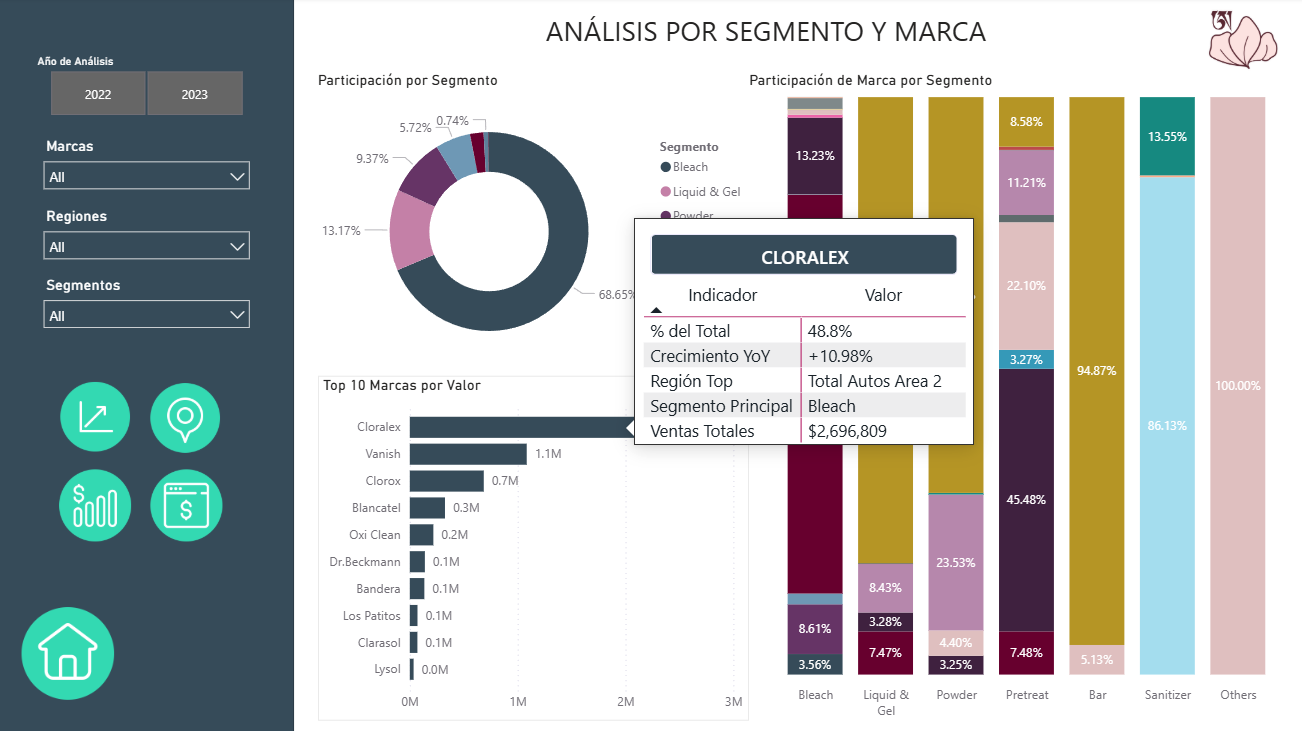

This screenshot's page, from the dashboard's own definition file:
{"tool":"powerbi","page":{"name":"Segmentos y Marcas","canvas":[1280,720],"ordinal":3},"visuals":[{"type":"donutChart","title":"Participación por Segmento","fields":{"Y":["DAX.Ventas Totales"],"Category":["DIM_SEGMENT.SEGMENT"]},"box":[312.9,72.7,422.6,297.8],"z":0},{"type":"hundredPercentStackedColumnChart","title":"Participación de Marca por Segmento","fields":{"Category":["DIM_SEGMENT.SEGMENT"],"Y":["DAX.Ventas Totales"],"Series":["DIM_PRODUCT.BRAND"]},"box":[735.5,72.7,533.8,636.7],"z":1000},{"type":"textbox","box":[386.4,9.8,730,53.8],"z":2000},{"type":"shape","box":[0,0,289.8,720.2],"z":3000},{"type":"clusteredBarChart","title":"Top 10 Marcas por Valor","fields":{"Y":["DAX.Ventas Totales"],"Category":["DIM_PRODUCT.BRAND"]},"box":[312.9,370.5,422.6,337.6],"z":4000},{"type":"image","title":"Resumen Ejecutivo","box":[18.3,588.2,100.3,107.6],"z":5000},{"type":"slicer","fields":{"Values":["DIM_CALENDAR.YEAR"]},"box":[26.1,50.8,237.4,71.4],"z":6000},{"type":"slicer","fields":{"Values":["DIM_PRODUCT.BRAND"]},"box":[34.3,131.7,222.3,68.6],"z":7000},{"type":"slicer","fields":{"Values":["FACT_SALES.REGION"]},"box":[34.3,200.3,222.3,67.2],"z":8000},{"type":"slicer","fields":{"Values":["DIM_SEGMENT.SEGMENT"]},"box":[34.3,267.6,222.3,65.9],"z":9000},{"type":"image","title":"Resumen Ejecutivo","box":[57.6,373.2,75.5,75.5],"z":10000},{"type":"image","title":"Región y Formato","box":[145.5,374.6,75.5,75.5],"z":11000},{"type":"image","title":"Detalle de Marca","box":[57.6,459.7,75.5,75.5],"z":12000},{"type":"image","title":"Tabla Completa","box":[146.8,459.7,75.5,75.5],"z":13000},{"type":"image","box":[1165,9.6,104.3,63.1],"z":14000}]}

Visuals, with their boxes in screenshot pixels (x1, y1, x2, y2), scaled from the page's 1280x720 canvas onto the 1302x731 screenshot:
"Participación por Segmento" donutChart: {"x1": 318, "y1": 74, "x2": 748, "y2": 376}
"Participación de Marca por Segmento" hundredPercentStackedColumnChart: {"x1": 748, "y1": 74, "x2": 1291, "y2": 720}
textbox: {"x1": 393, "y1": 10, "x2": 1136, "y2": 65}
shape: {"x1": 0, "y1": 0, "x2": 295, "y2": 730}
"Top 10 Marcas por Valor" clusteredBarChart: {"x1": 318, "y1": 376, "x2": 748, "y2": 719}
"Resumen Ejecutivo" image: {"x1": 19, "y1": 597, "x2": 121, "y2": 706}
slicer - DIM_CALENDAR.YEAR: {"x1": 27, "y1": 52, "x2": 268, "y2": 124}
slicer - DIM_PRODUCT.BRAND: {"x1": 35, "y1": 134, "x2": 261, "y2": 203}
slicer - FACT_SALES.REGION: {"x1": 35, "y1": 203, "x2": 261, "y2": 272}
slicer - DIM_SEGMENT.SEGMENT: {"x1": 35, "y1": 272, "x2": 261, "y2": 339}
"Resumen Ejecutivo" image: {"x1": 59, "y1": 379, "x2": 135, "y2": 456}
"Región y Formato" image: {"x1": 148, "y1": 380, "x2": 225, "y2": 457}
"Detalle de Marca" image: {"x1": 59, "y1": 467, "x2": 135, "y2": 543}
"Tabla Completa" image: {"x1": 149, "y1": 467, "x2": 226, "y2": 543}
image: {"x1": 1185, "y1": 10, "x2": 1291, "y2": 74}
